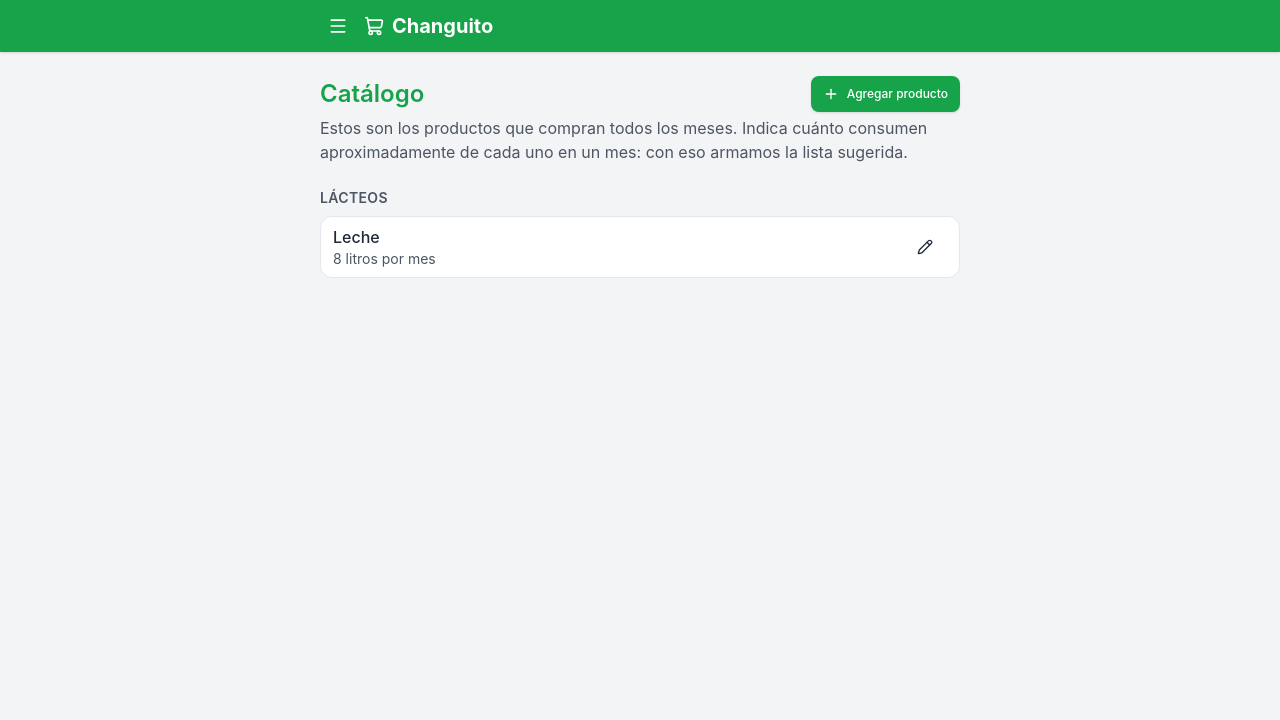
Test case: CatalogPage › edits the expected monthly consumption of a product
Click the button named "Editar Leche" at (925, 247), box x1=903 y1=225 x2=947 y2=269
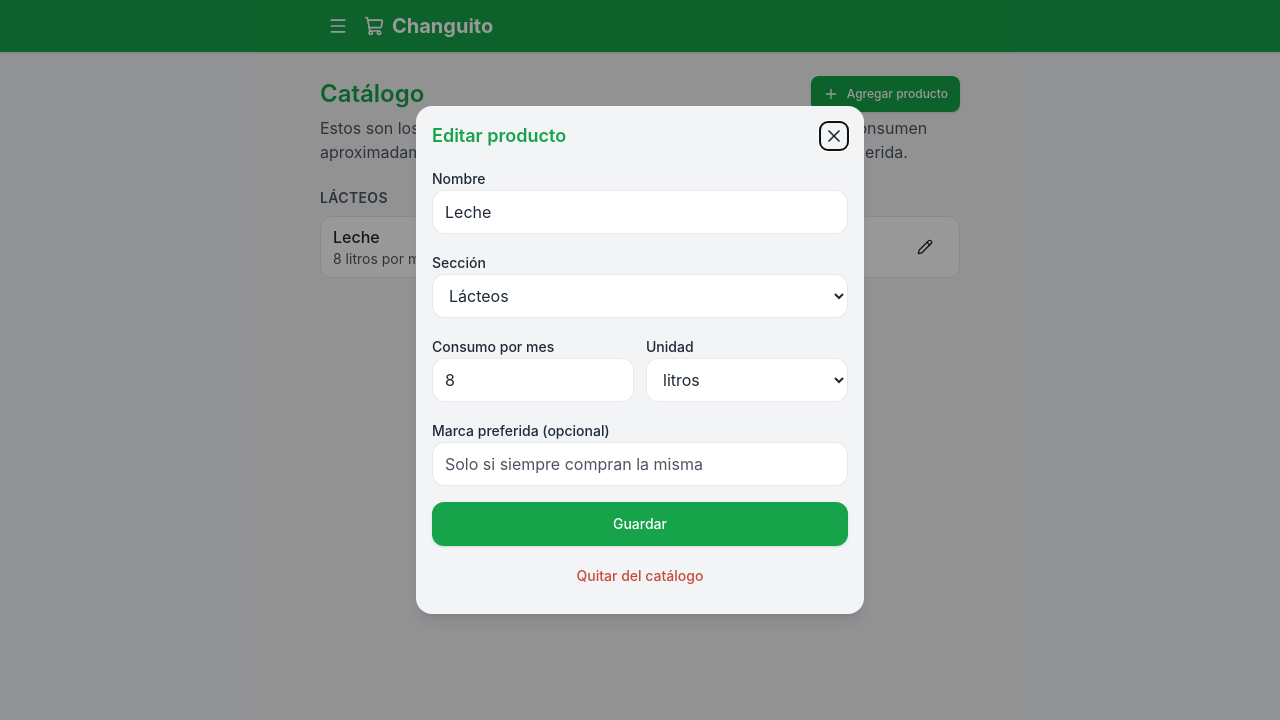
Replace the text in the field labelled "Consumo por mes" with "10" at (533, 380), box x1=432 y1=358 x2=634 y2=402
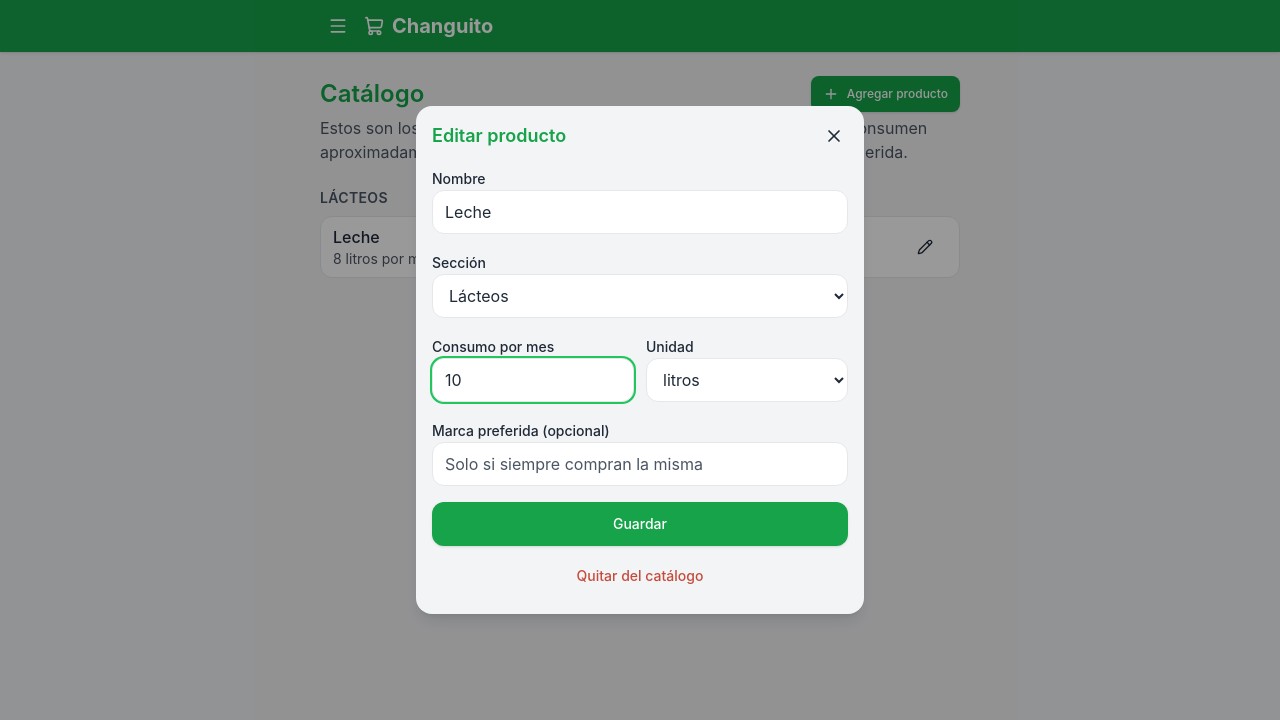
Click the button "Guardar" at (640, 524), box x1=432 y1=502 x2=848 y2=546
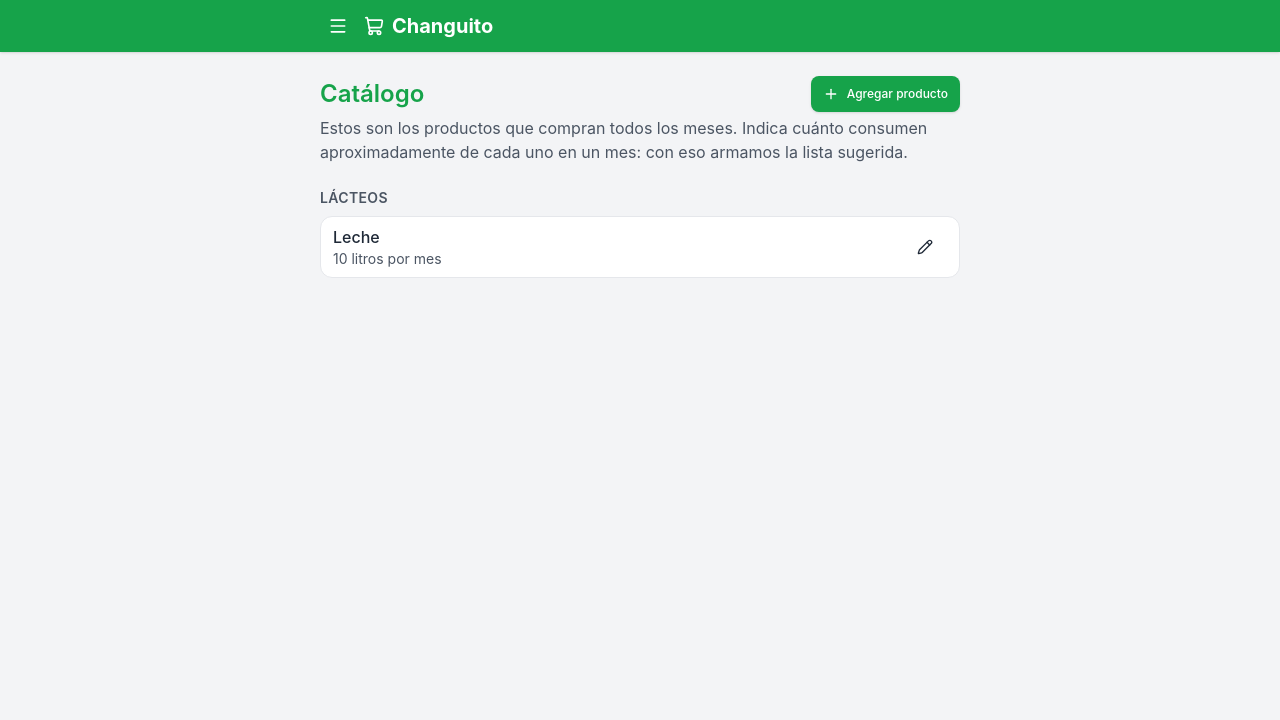
Expected: the text "10 litros por mes" is shown, x1=333 y1=250 x2=442 y2=267
